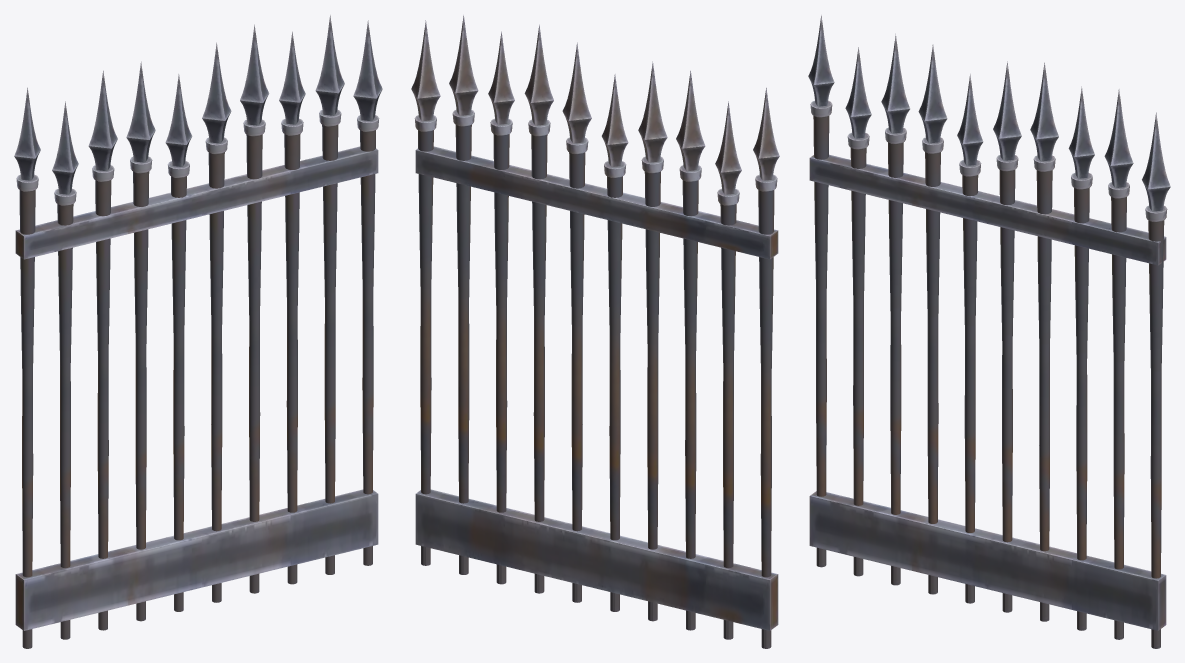
Rendered from Prop_MetalFence_Simple.gltf.
3 renders of one model, left to right at view 1: azimuth 30°, elevation 25°; view 2: azimuth 150°, elevation 25°; view 3: azimuth 330°, elevation 25°, orthographic.
Parts seen in each view (by area): view 1: Prop_MetalFence_Simple; view 2: Prop_MetalFence_Simple; view 3: Prop_MetalFence_Simple.
Boxes of the visible parts, box(x1,y1,x2,y2) form: Prop_MetalFence_Simple: box(14, 15, 382, 648); Prop_MetalFence_Simple: box(411, 15, 779, 648); Prop_MetalFence_Simple: box(808, 15, 1170, 648).
Bounding box in the file's own units: 1.95 × 2.87 × 0.1561.
1 material, 1 textured.
